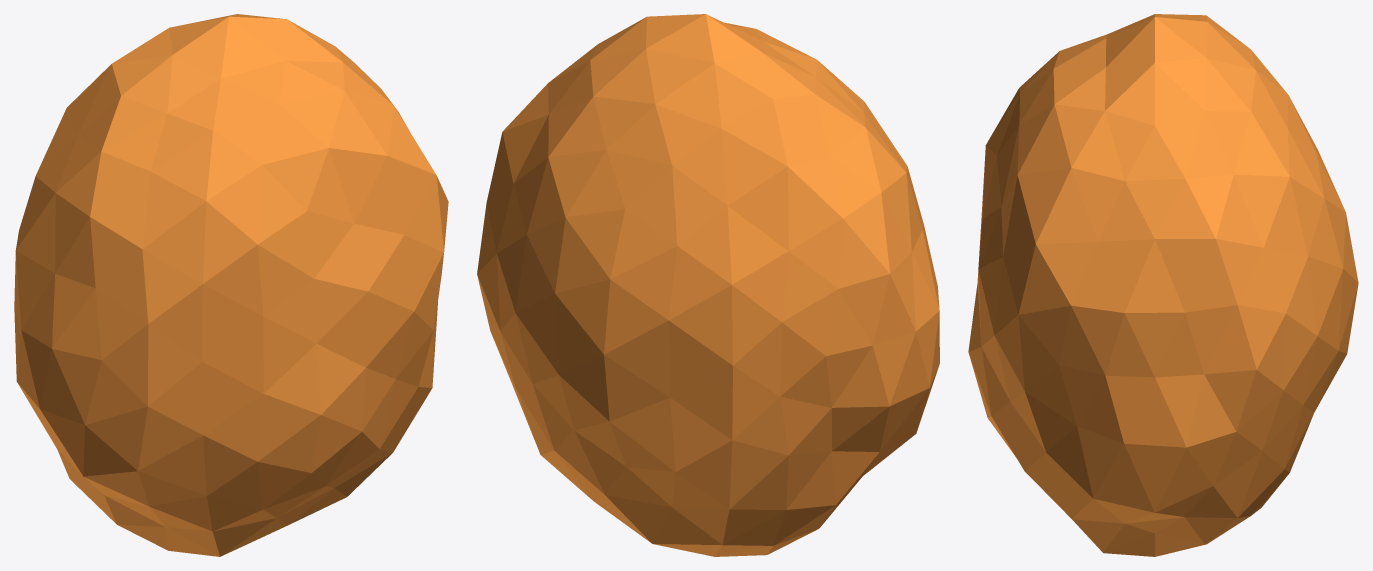
File: SatanHeart.obj
3 renders of one model, left to right at view 1: azimuth 30°, elevation 25°; view 2: azimuth 150°, elevation 25°; view 3: azimuth 270°, elevation 25°, orthographic.
Parts seen in each view (by area): view 1: SatanHeart; view 2: SatanHeart; view 3: SatanHeart.
Boxes of the visible parts, x1=… form: SatanHeart: x1=14, y1=14, x2=448, y2=556; SatanHeart: x1=477, y1=14, x2=939, y2=556; SatanHeart: x1=968, y1=14, x2=1358, y2=556.
Size of the model in its own units: 0.1091 by 0.1334 by 0.0897.
1 material, 1 textured.
